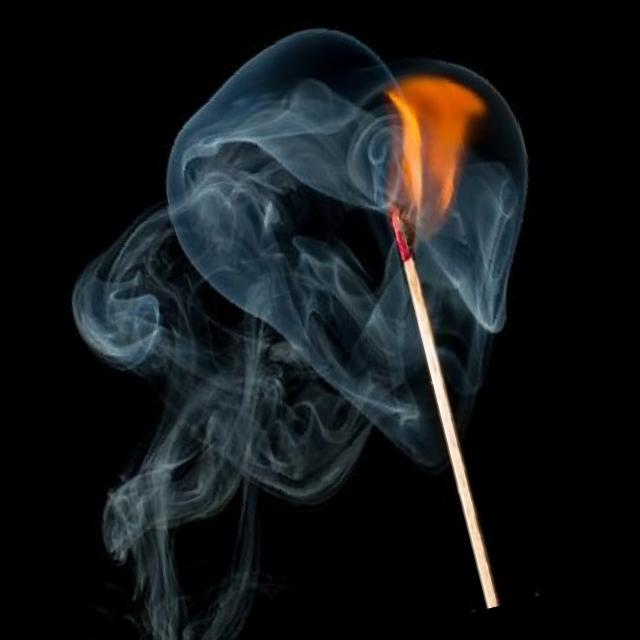fire: (324, 55, 510, 240)
